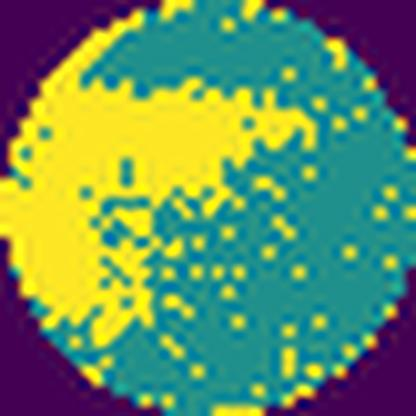Edge-Loc: (0, 4, 317, 358)
